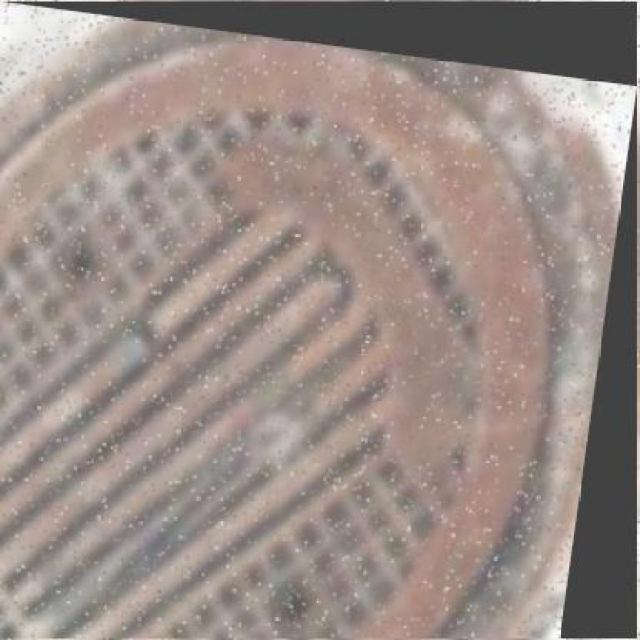Manhole: (0, 2, 637, 639)
